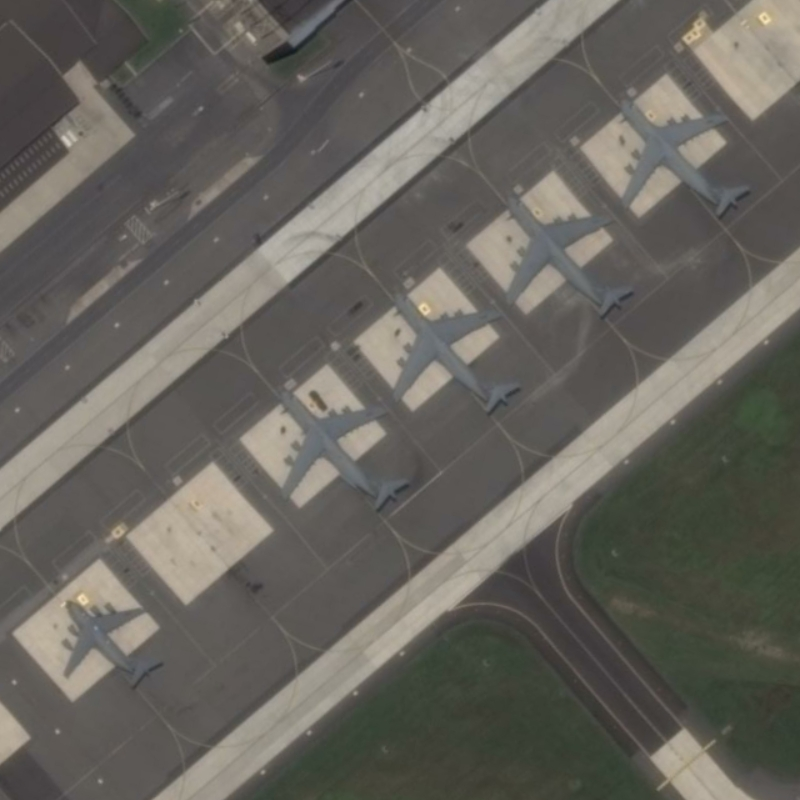A3: (54, 589, 175, 703)
A4: (612, 84, 759, 226), (495, 181, 641, 323), (384, 280, 526, 419), (267, 383, 414, 517)
